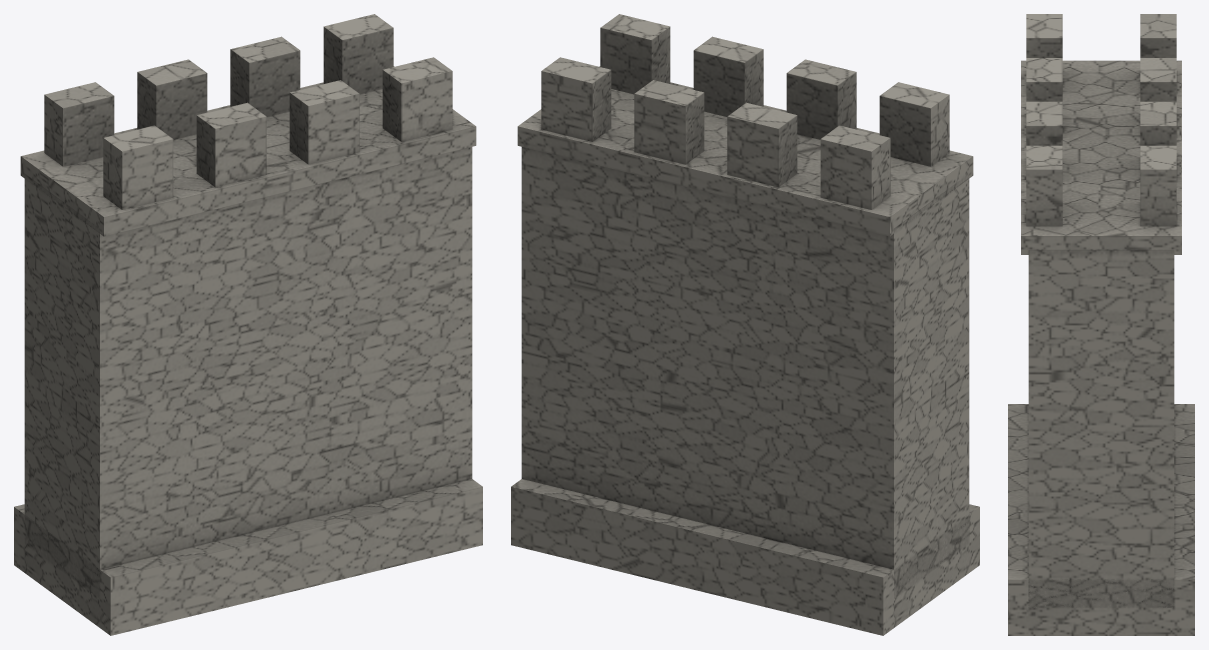
The model's file is CitadelWall.glb.
3 views of the same model, side by side, from view 1: azimuth 30°, elevation 25°; view 2: azimuth 150°, elevation 25°; view 3: azimuth 270°, elevation 25° (orthographic). The views are drawn at different scales.
Visible parts, largest first — view 1: CitadelWall; view 2: CitadelWall; view 3: CitadelWall.
Part boxes in pixels (x1,y1,x2,y2): CitadelWall: [14, 14, 482, 635]; CitadelWall: [511, 14, 979, 635]; CitadelWall: [1008, 14, 1194, 635].
Bounding box in the file's own units: 4 × 4.85 × 1.8.
Materials: 1 (1 with a texture image).
